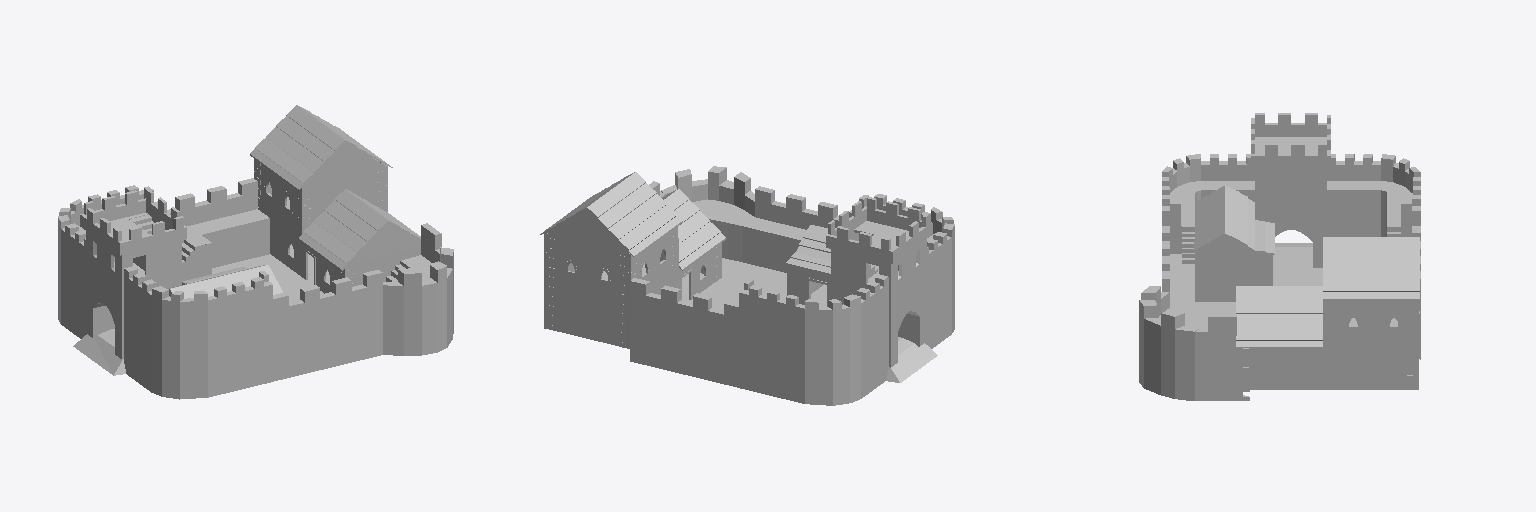
File: castle.obj
3 views of the same model, side by side, from view 1: azimuth 30°, elevation 25°; view 2: azimuth 150°, elevation 25°; view 3: azimuth 270°, elevation 25° (orthographic).
Parts seen in each view (by area): view 1: Cube, Cube.008_Cube.010, Cube.006_Cube.008, Cube.004_Cube.006, Cube.009_Cube.133, Cube.005_Cube.001, Cube.002_Cube.004, Plane.002_Plane.010, Cube.001_Cube.002, Cube.029, Cube.121_Cube.124; view 2: Cube, Cube.006_Cube.008, Cube.008_Cube.010, Cube.004_Cube.006, Cube.005_Cube.001, Plane.002_Plane.010, Cube.002_Cube.004, Cube.001_Cube.002, Cube.009_Cube.133, Cube.029, Cube.028, Cube.117_Cube.120 (+1 smaller); view 3: Cube, Cube.005_Cube.001, Cube.008_Cube.010, Cube.009_Cube.133, Cube.004_Cube.006, Cube.028, Cube.029, Cube.006_Cube.008, Cube.002_Cube.004, Plane.002_Plane.010, Cube.001_Cube.002, Cube.108_Cube.110 (+1 smaller).
Part boxes in pixels (x1,y1,x2,y2): Cube: (58, 178, 453, 399); Cube.008_Cube.010: (250, 105, 392, 190); Cube.006_Cube.008: (257, 143, 385, 229); Cube.004_Cube.006: (80, 189, 186, 255); Cube.009_Cube.133: (298, 189, 420, 270); Cube.005_Cube.001: (258, 203, 420, 293); Cube.002_Cube.004: (86, 216, 181, 293); Plane.002_Plane.010: (73, 254, 323, 375); Cube.001_Cube.002: (86, 268, 181, 358); Cube.029: (168, 265, 282, 298); Cube.121_Cube.124: (296, 186, 312, 234); Cube: (630, 166, 954, 405); Cube.006_Cube.008: (545, 211, 674, 298); Cube.008_Cube.010: (540, 172, 682, 257); Cube.004_Cube.006: (826, 197, 932, 263); Cube.005_Cube.001: (549, 245, 718, 346); Plane.002_Plane.010: (689, 258, 937, 382); Cube.002_Cube.004: (831, 230, 926, 301); Cube.001_Cube.002: (831, 276, 926, 367); Cube.009_Cube.133: (662, 189, 725, 270); Cube.029: (786, 225, 830, 274); Cube.028: (787, 265, 830, 304); Cube.117_Cube.120: (620, 253, 636, 348); Cube: (1139, 154, 1420, 400); Cube.005_Cube.001: (1243, 342, 1412, 389); Cube.008_Cube.010: (1323, 237, 1419, 299); Cube.009_Cube.133: (1236, 286, 1322, 347); Cube.004_Cube.006: (1251, 113, 1330, 167); Cube.028: (1195, 235, 1272, 301); Cube.029: (1194, 186, 1274, 254); Cube.006_Cube.008: (1329, 300, 1413, 341); Cube.002_Cube.004: (1255, 168, 1326, 206); Plane.002_Plane.010: (1195, 243, 1322, 328); Cube.001_Cube.002: (1255, 207, 1326, 267); Cube.108_Cube.110: (1407, 300, 1419, 389).
Bounding box in the file's own units: 20.17 × 8.9 × 15.55.